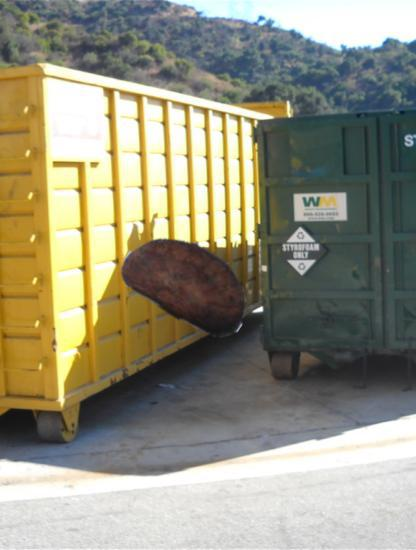Chestnut: (122, 215, 257, 350)
